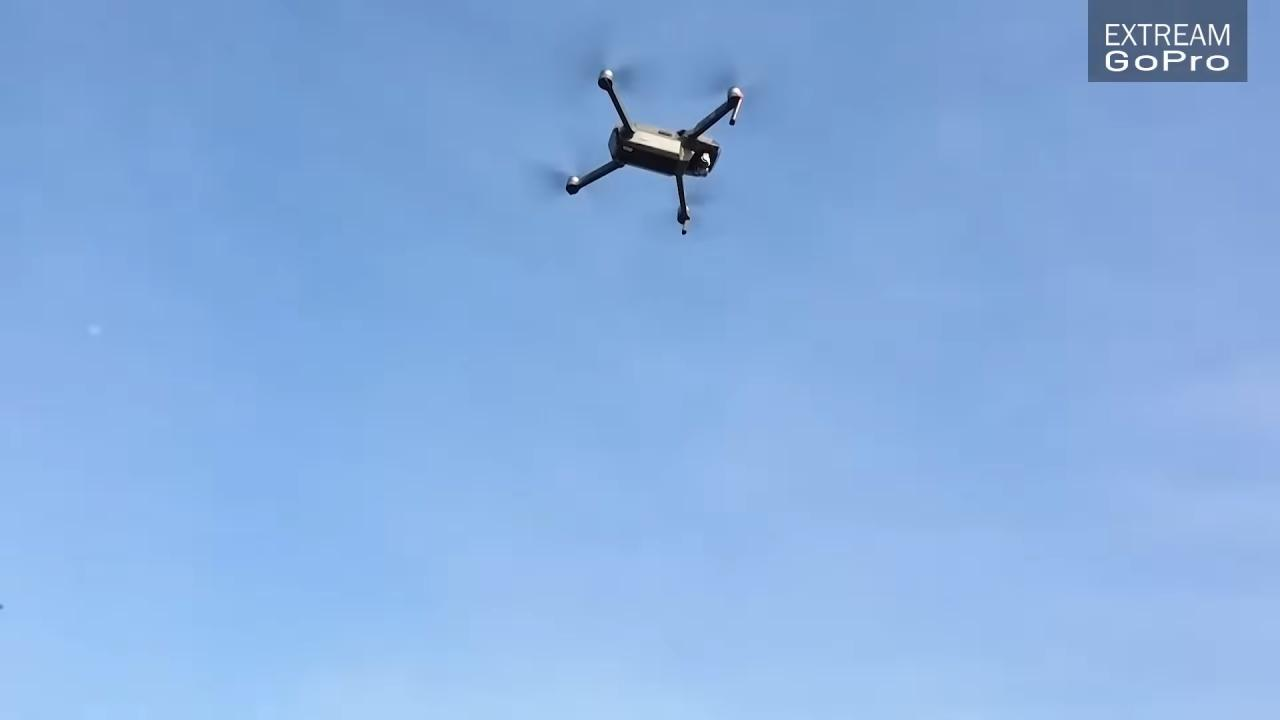Drone: (547, 52, 756, 249)
